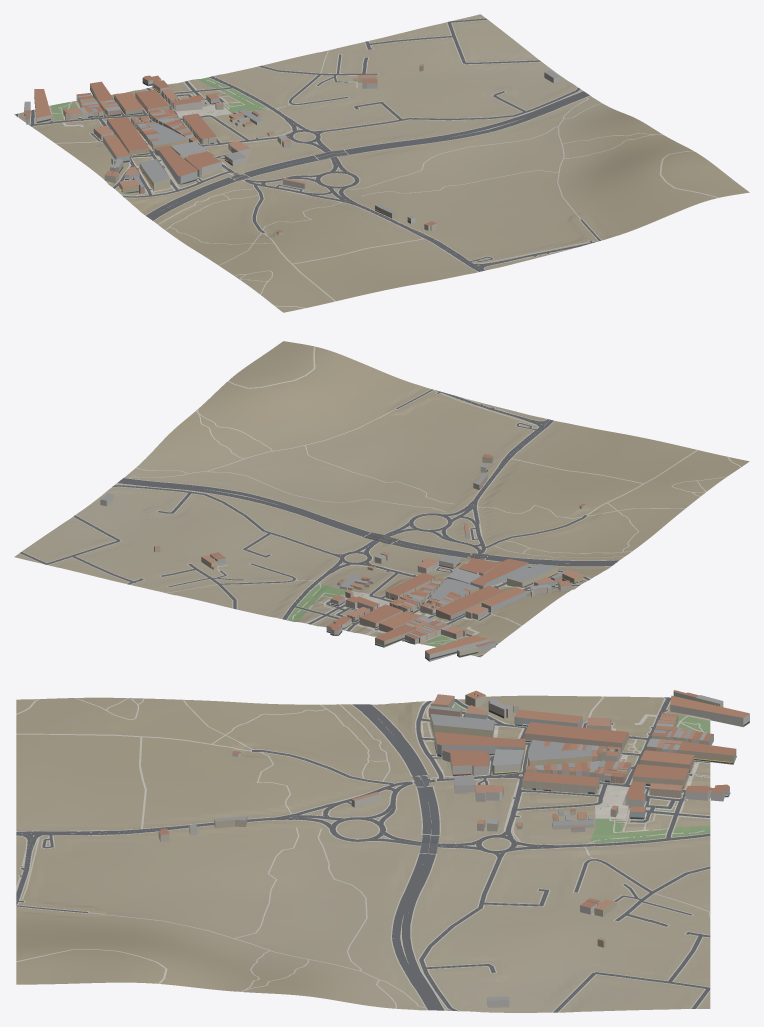
3 views of the same model, one above another, from view 1: azimuth 30°, elevation 25°; view 2: azimuth 150°, elevation 25°; view 3: azimuth 270°, elevation 25° (orthographic). The views are drawn at different scales.
Parts seen in each view (by area): view 1: Ground, Sidewalk, Road, Roofs, Walls, Park, Detail; view 2: Ground, Sidewalk, Road, Roofs, Walls, Park; view 3: Ground, Road, Sidewalk, Roofs, Walls, Park, Detail.
Part boxes in pixels (bbox=[...]): Ground: bbox=[14, 14, 749, 312]; Sidewalk: bbox=[14, 18, 718, 308]; Road: bbox=[15, 18, 600, 271]; Roofs: bbox=[24, 63, 558, 232]; Walls: bbox=[24, 64, 559, 234]; Park: bbox=[52, 77, 266, 120]; Detail: bbox=[24, 82, 410, 223]; Ground: bbox=[14, 341, 749, 657]; Sidewalk: bbox=[19, 346, 740, 656]; Road: bbox=[20, 389, 618, 656]; Roofs: bbox=[101, 454, 585, 654]; Walls: bbox=[100, 455, 586, 661]; Park: bbox=[287, 583, 572, 646]; Ground: bbox=[16, 695, 710, 1012]; Road: bbox=[16, 697, 710, 1012]; Sidewalk: bbox=[16, 696, 710, 1012]; Roofs: bbox=[159, 690, 749, 1000]; Walls: bbox=[158, 691, 749, 1007]; Park: bbox=[453, 703, 710, 842]; Detail: bbox=[434, 702, 749, 819].
Bounding box in the file's own units: 1003 × 50.48 × 1061.
